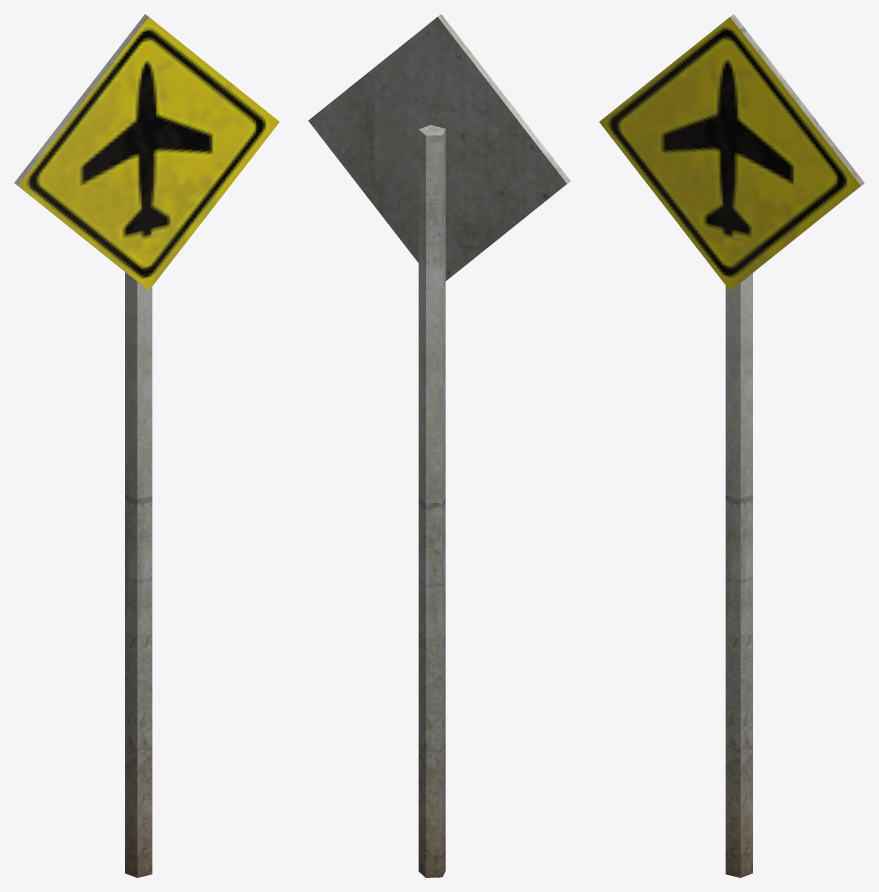
Rendered from square_airplane.fbx.
The picture shows the model from 3 angles, left to right: view 1: azimuth 30°, elevation 25°; view 2: azimuth 150°, elevation 25°; view 3: azimuth 330°, elevation 25°; orthographic projection.
Visible parts, largest first — view 1: Cylinder.006; view 2: Cylinder.006; view 3: Cylinder.006.
Boxes of the visible parts, box(x1,y1,x2,y2) form: Cylinder.006: box(14, 14, 279, 877); Cylinder.006: box(308, 14, 570, 877); Cylinder.006: box(599, 14, 864, 877).
Size of the model in its own units: 156 by 492 by 16.81.
